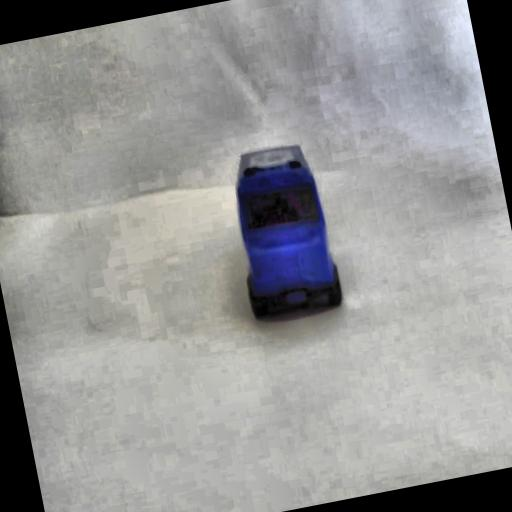police car: (218, 132, 352, 330)
